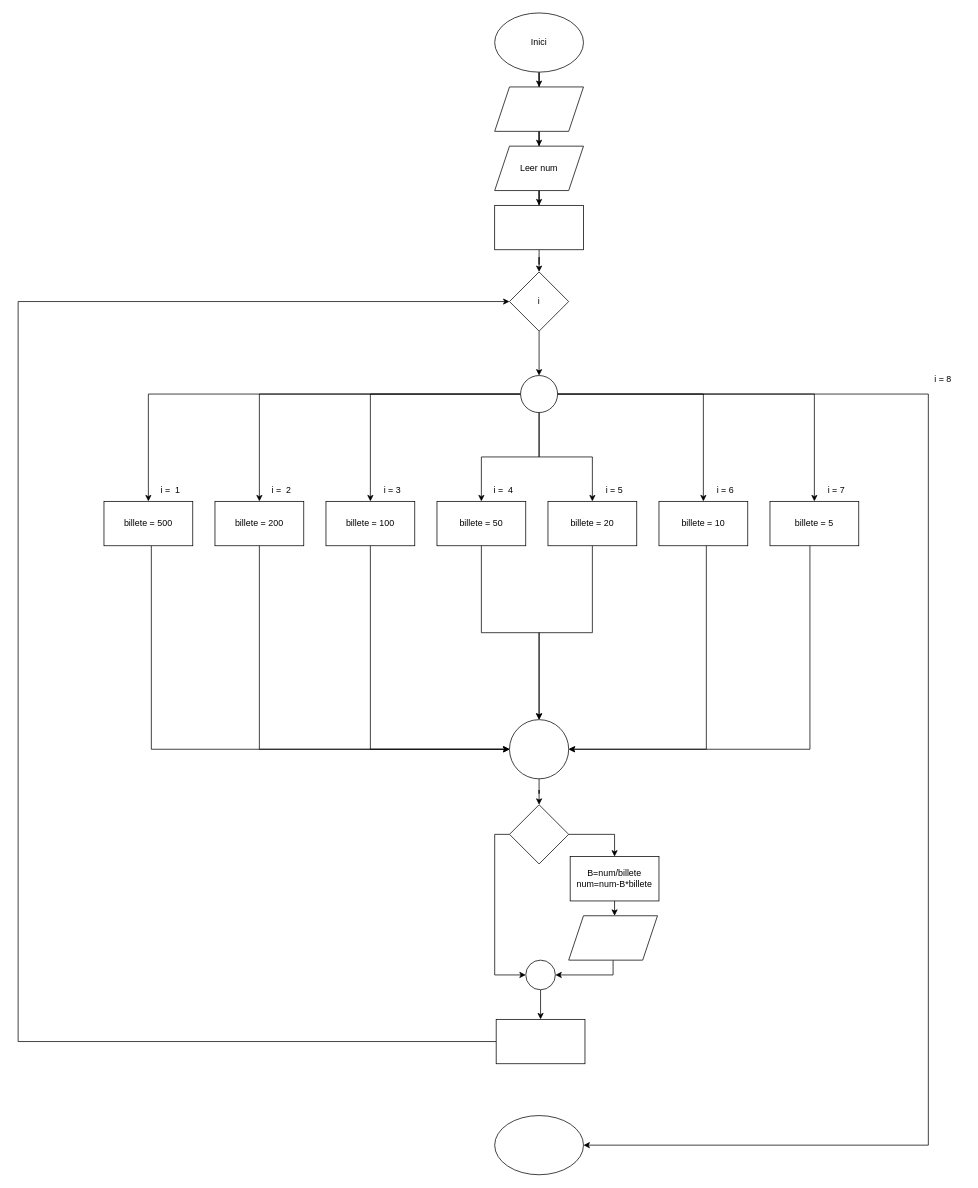
This 978x1188 diagram has some shape labels left out. The centre of each missing label's shape, as x and y in pixels:
Escribir: B+"billets de "billete: pixel 612 937
Escriu el numero de diners: pixel 538 108
FIN: pixel 538 1145
i++: pixel 540 1041
i=1: pixel 538 227
num>billete: pixel 539 834
